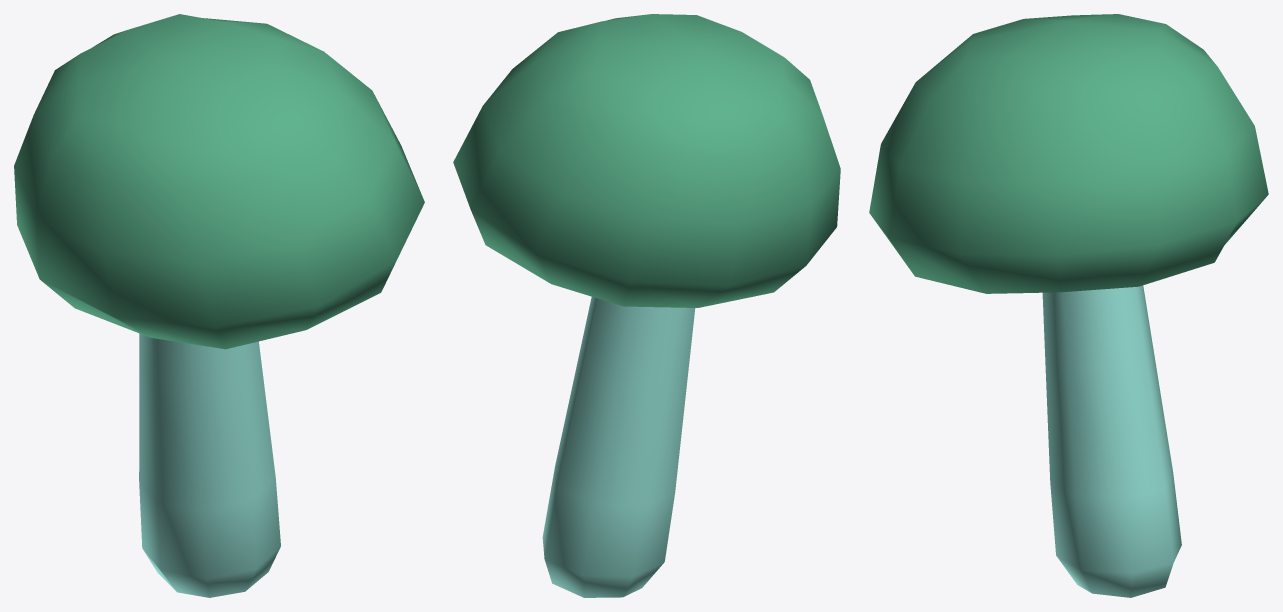
File: Shroom_B_01.fbx
3 renders of one model, left to right at view 1: azimuth 30°, elevation 25°; view 2: azimuth 150°, elevation 25°; view 3: azimuth 270°, elevation 25°, orthographic. The views are drawn at different scales.
Visible parts, largest first — view 1: Shroom_B_01_LOD0; view 2: Shroom_B_01_LOD0; view 3: Shroom_B_01_LOD0.
Part boxes in pixels (left/top/right/bottom): Shroom_B_01_LOD0: left=14, top=14, right=424, bottom=597; Shroom_B_01_LOD0: left=453, top=14, right=840, bottom=597; Shroom_B_01_LOD0: left=869, top=14, right=1268, bottom=597.
Size of what is drawn, in the model's own units: 84.46 by 129 by 86.88.
